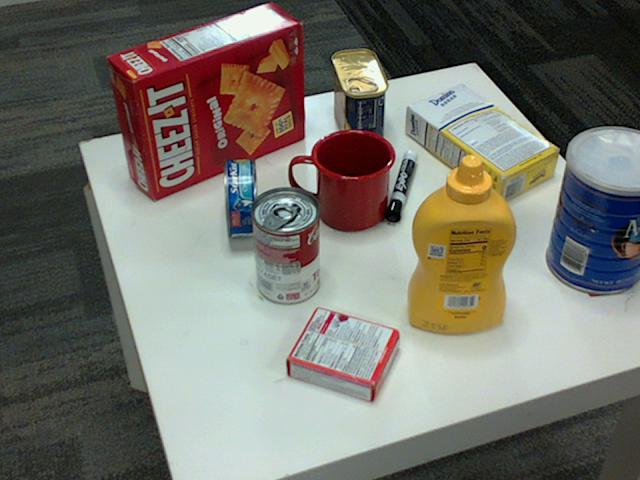cracker_box: (106, 0, 304, 197)
gelatin_box: (284, 307, 397, 404)
large_marker: (384, 153, 417, 221)
master_chef_can: (547, 127, 639, 295)
mug: (290, 127, 396, 230)
mustard_bottle: (406, 155, 516, 332)
potted_meat_can: (329, 50, 386, 149)
sugar_box: (406, 84, 561, 203)
tomato_soup_can: (250, 187, 320, 304)
tuna_fish_can: (222, 158, 258, 238)
